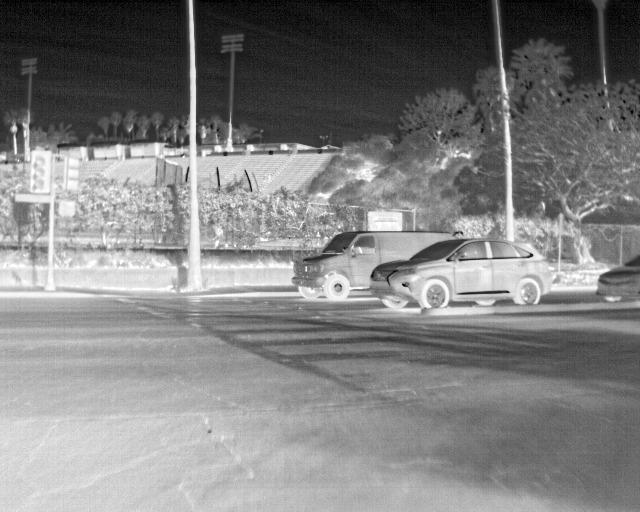car: (369, 238, 551, 311), (291, 231, 454, 302), (596, 252, 639, 301)
light: (32, 154, 46, 189), (67, 159, 80, 189), (59, 201, 75, 216)
sign: (16, 194, 51, 203)
